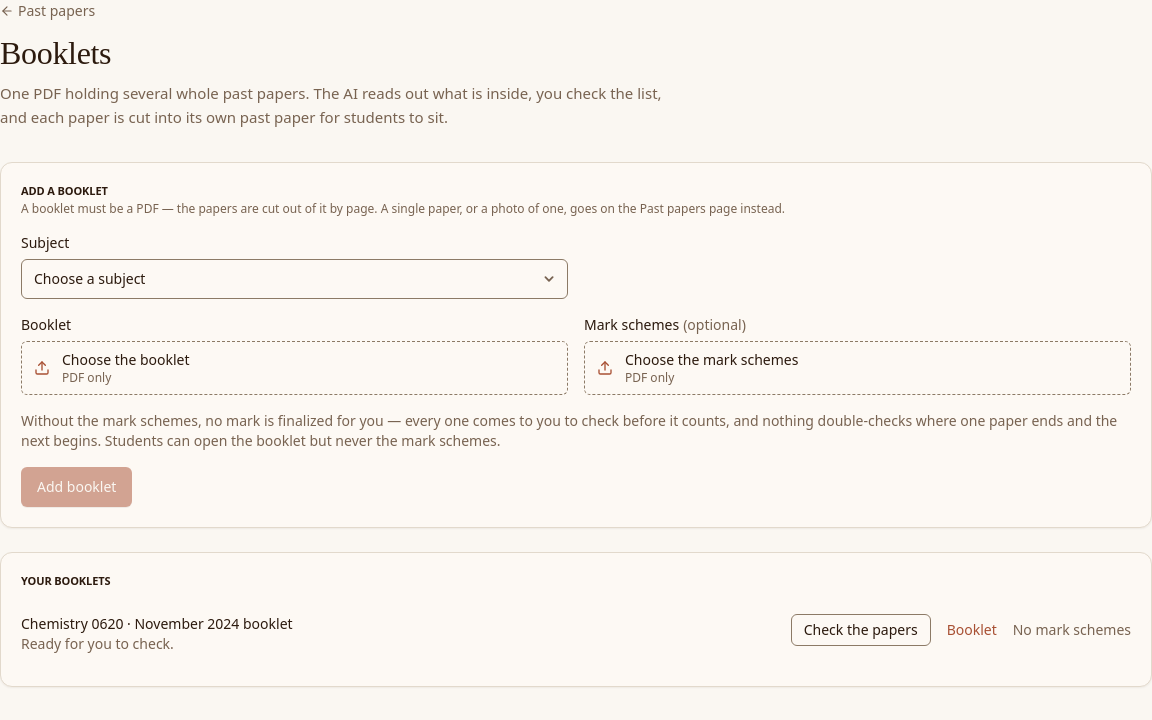
the review table shows the papers the AI found
What coordinates should you click on to do the following:
click the button "Check the papers"
I would click on:
 (861, 630)
Its box is [791,614,931,646].
(page scrolled)
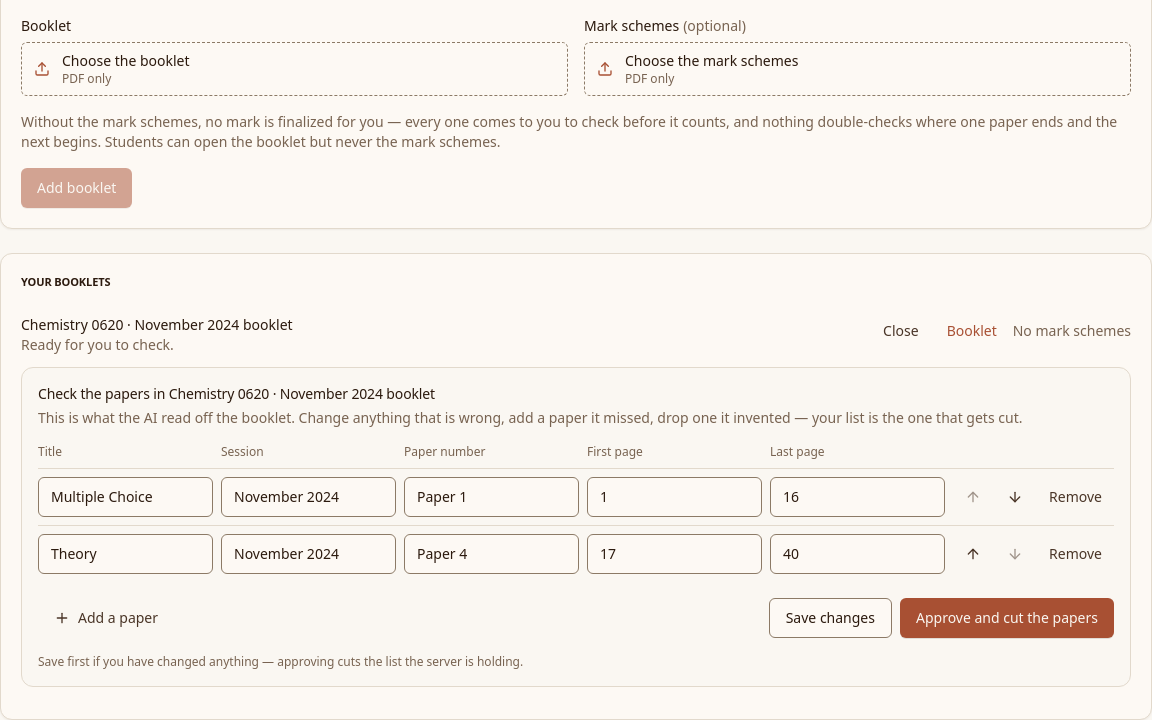
Expected: the field named "Title, paper 1" holds "Multiple Choice", [38,477,213,517]
Expected: the field named "Paper number, paper 2" holds "Paper 4", [404,534,579,574]
Expected: the number field named "First page, paper 2" holds "17", [587,534,762,574]
